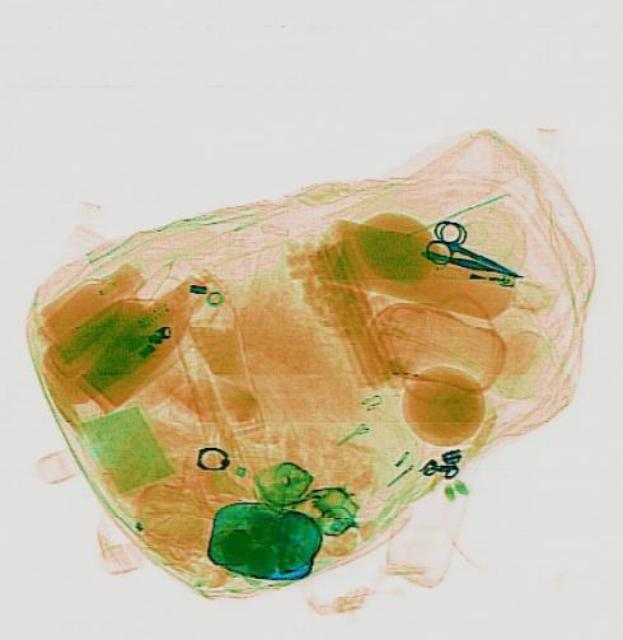Scissors: (417, 214, 528, 294)
